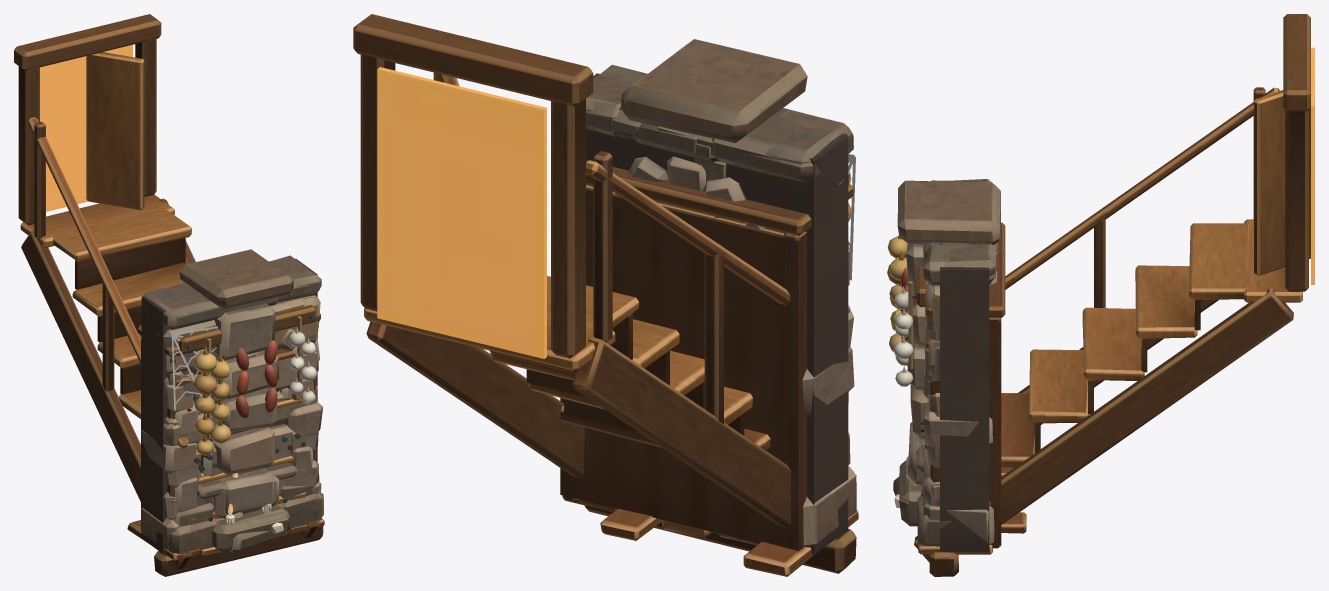
File: env-cellar.glb
3 renders of one model, left to right at view 1: azimuth 30°, elevation 25°; view 2: azimuth 150°, elevation 25°; view 3: azimuth 270°, elevation 25°, orthographic. The views are drawn at different scales.
Parts seen in each view (by area): view 1: stairs, stone-pillar, stone-arch, stone-doorway, stone-wall, hanging-food, floor-edge, stone-pillar-low, wine-rack, candles, stone-wall-low, shelf (+1 smaller); view 2: stairs, wine-rack, stone-arch, stone-pillar, stone-doorway, stone-wall, floor-edge; view 3: stairs, stone-doorway, stone-pillar, wine-rack, hanging-food, stone-arch, stone-wall, floor-edge, stone-pillar-low.
Part boxes in pixels (box(x1,y1,x2,y2)): stairs: box(14, 14, 319, 569); stone-pillar: box(179, 249, 293, 552); stone-arch: box(141, 255, 320, 554); stone-doorway: box(141, 261, 322, 553); stone-wall: box(142, 258, 323, 553); hanging-food: box(179, 305, 317, 455); floor-edge: box(127, 518, 324, 576); stone-pillar-low: box(213, 475, 289, 552); wine-rack: box(137, 312, 320, 525); candles: box(225, 473, 283, 553); stone-wall-low: box(171, 485, 314, 526); shelf: box(176, 349, 303, 483); stairs: box(353, 14, 791, 528); wine-rack: box(560, 160, 853, 550); stone-arch: box(586, 74, 853, 554); stone-pillar: box(621, 39, 807, 539); stone-doorway: box(586, 64, 856, 547); stone-wall: box(586, 73, 856, 516); floor-edge: box(562, 496, 858, 576); stairs: box(914, 14, 1314, 562); stone-doorway: box(923, 179, 997, 551); stone-pillar: box(897, 180, 1000, 526); wine-rack: box(921, 222, 1005, 548); hanging-food: box(887, 235, 927, 386); stone-arch: box(916, 243, 996, 546); stone-wall: box(918, 180, 996, 545); floor-edge: box(918, 467, 1026, 576); stone-pillar-low: box(899, 450, 924, 526).
Bounding box in the file's own units: 1.11 × 2.71 × 2.17.
2 materials, 2 textured.
